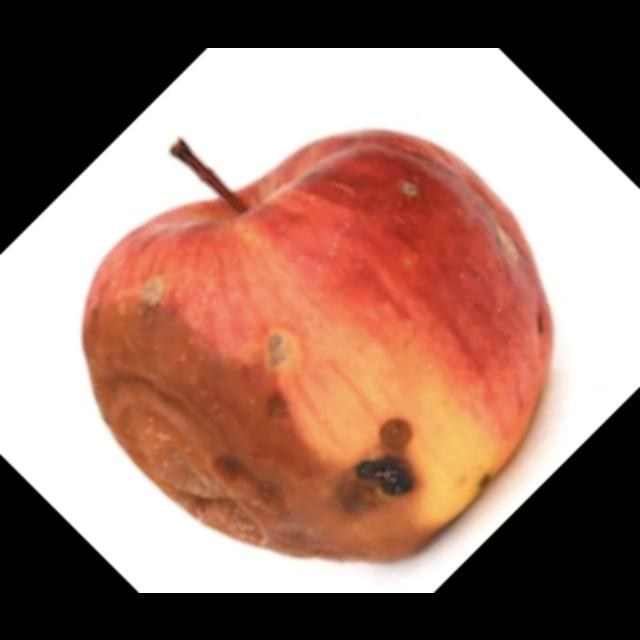Apel Tidak Segar: (18, 77, 602, 586)
